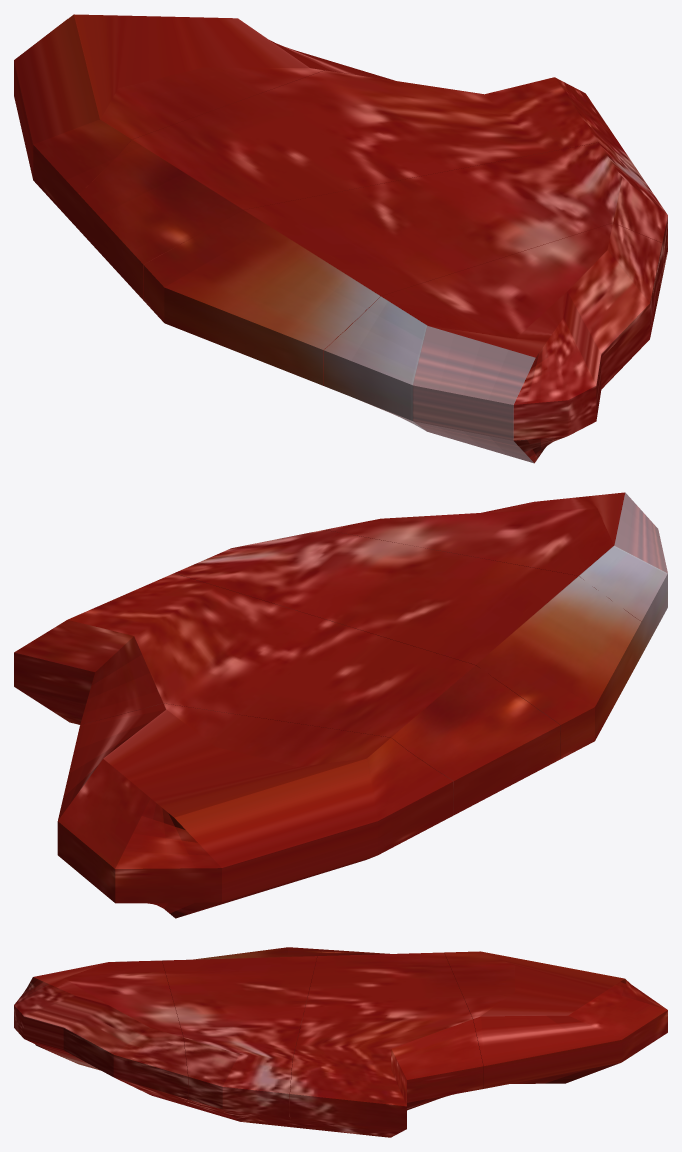
File: RedMeatPieces.fbx
3 views of the same model, one above another, from view 1: azimuth 30°, elevation 25°; view 2: azimuth 150°, elevation 25°; view 3: azimuth 270°, elevation 25° (orthographic). The views are drawn at different scales.
Visible parts, largest first — view 1: p2, p3, p1, p4; view 2: p4, p3, p2, p1; view 3: p3, p4, p2, p1.
Part boxes in pixels (x1,y1,x2,y2): p2: (143,142,667,385); p3: (79,70,637,300); p1: (323,223,662,463); p4: (14,14,394,229); p4: (57,703,453,918); p3: (14,573,560,814); p2: (174,530,641,759); p1: (325,492,667,654); p3: (290,949,483,1137); p4: (444,951,667,1088); p2: (162,947,323,1127); p1: (14,960,187,1104).
Bounding box in the file's own units: 219 × 43.76 × 381.
Materials: 1 (1 with a texture image).
